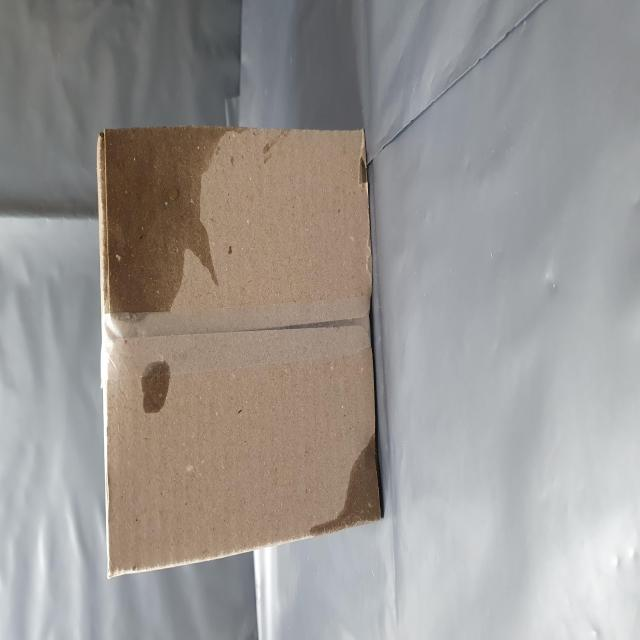wet: (178, 168, 288, 444), (58, 566, 118, 640)
